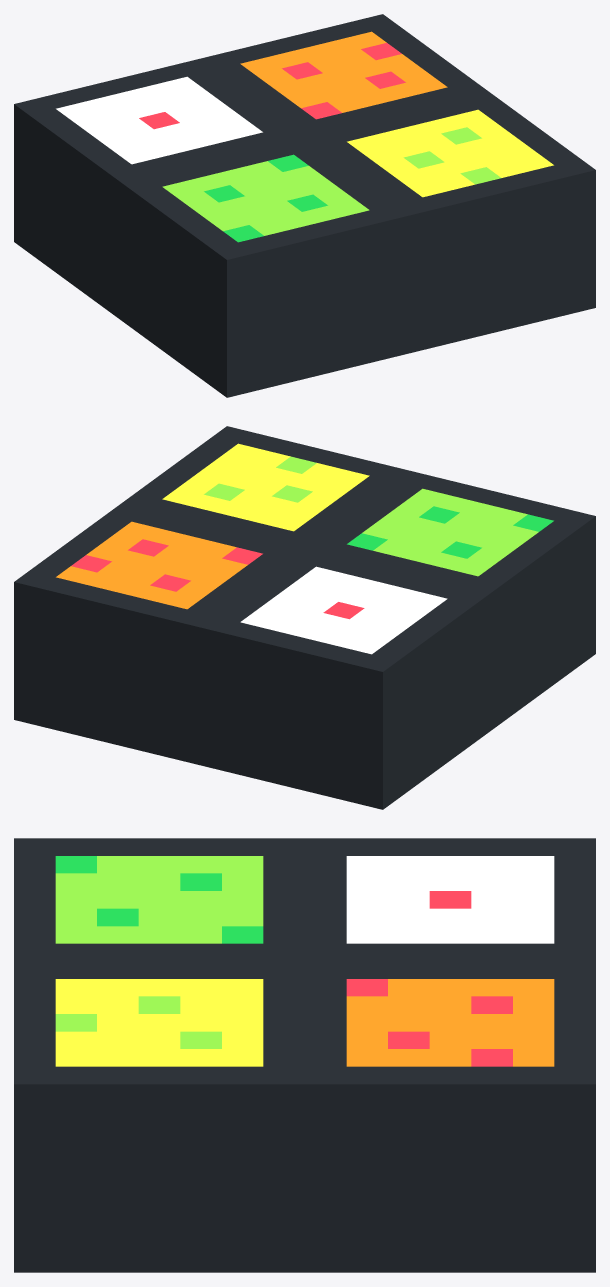
Rendered from voxel-bento.glb.
The picture shows the model from 3 angles, top to bottom: view 1: azimuth 30°, elevation 25°; view 2: azimuth 150°, elevation 25°; view 3: azimuth 270°, elevation 25°; orthographic projection. The views are drawn at different scales.
Visible parts, largest first — view 1: bento; view 2: bento; view 3: bento.
Part boxes in pixels (box(x1,y1,x2,y2)): bento: box(14, 14, 595, 397); bento: box(14, 426, 595, 809); bento: box(14, 838, 595, 1272).
Size of the model in its own units: 2.4 by 0.8571 by 2.4.
